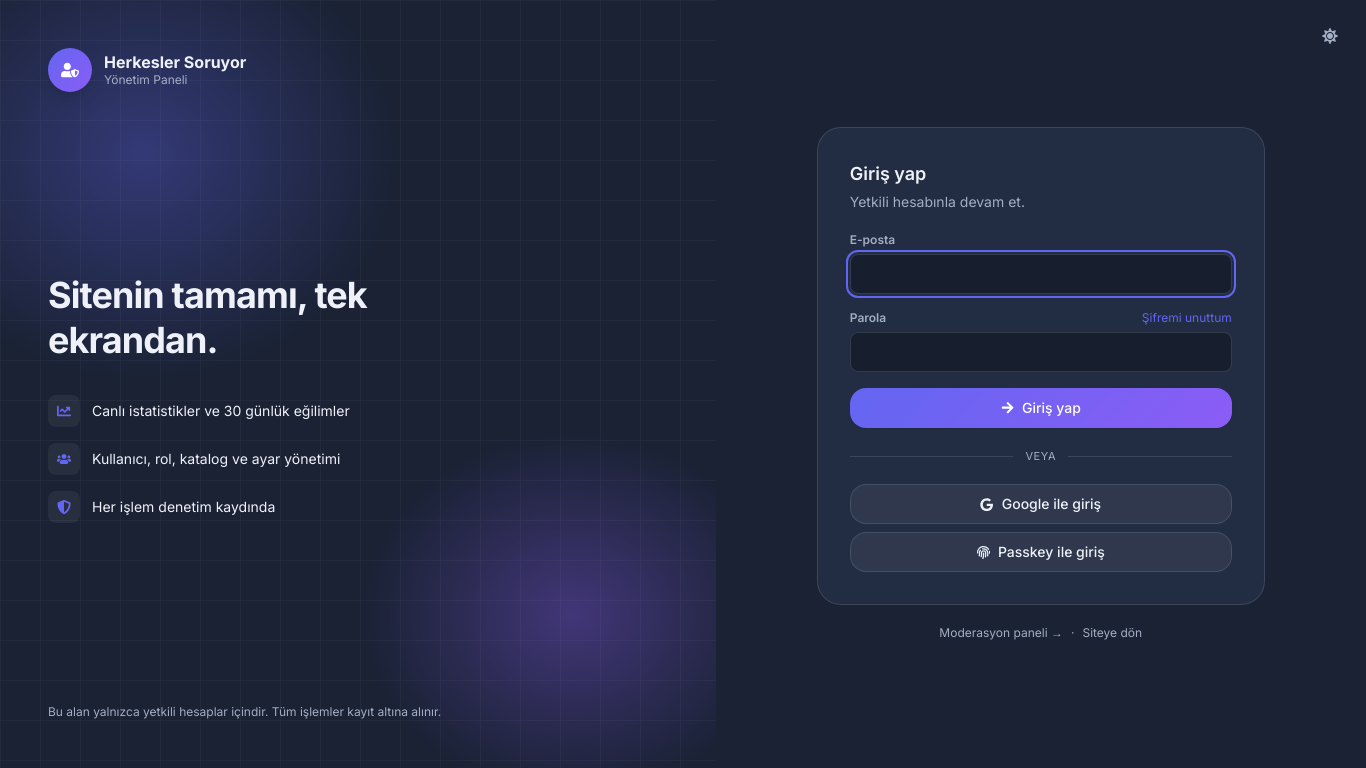
PanelLogin › şifremi unuttum akışı aynı kartta
Click the button "Şifremi unuttum": (1187, 318) [1142,310,1232,326]
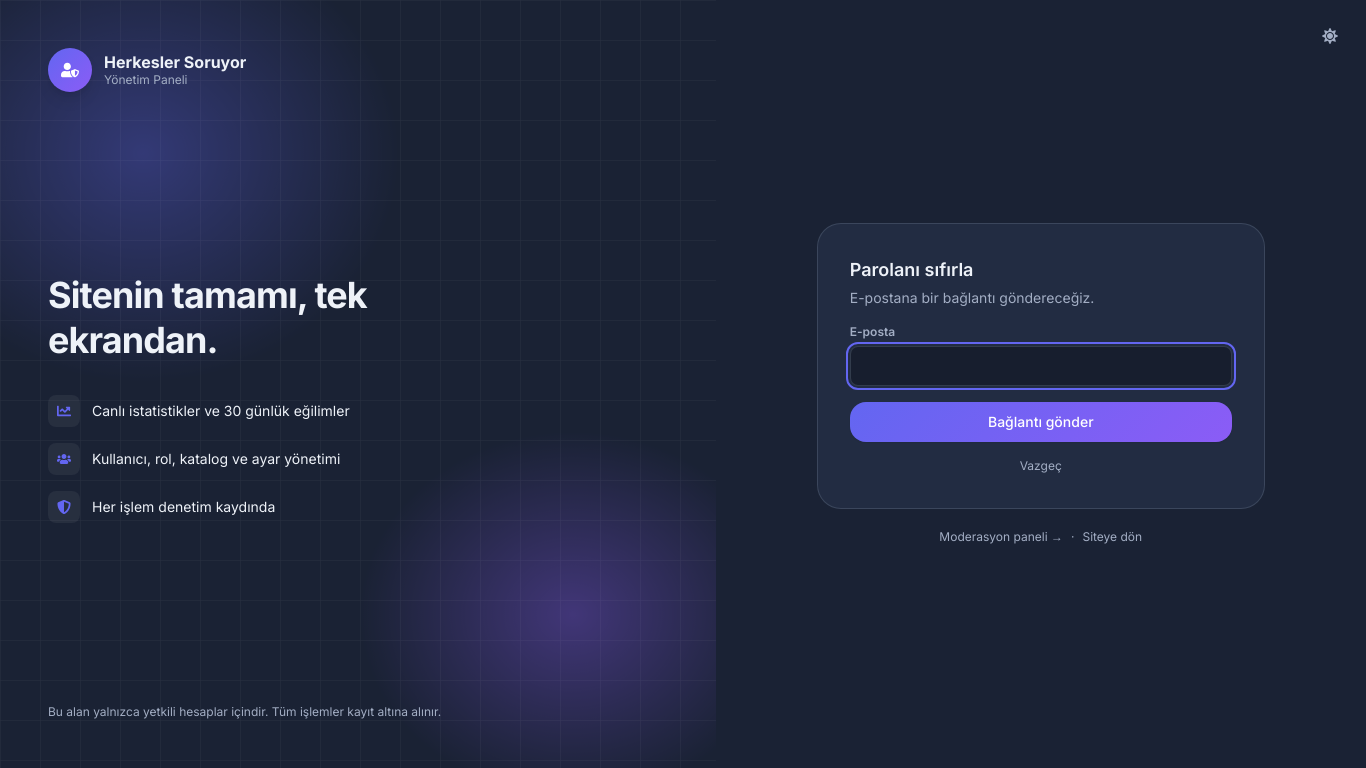
expect the heading "Parolanı sıfırla" is shown: met, box [850,259,974,280]
In the field labelled "E-posta": (1041, 366) [850,346,1232,386], type "a@b.c"
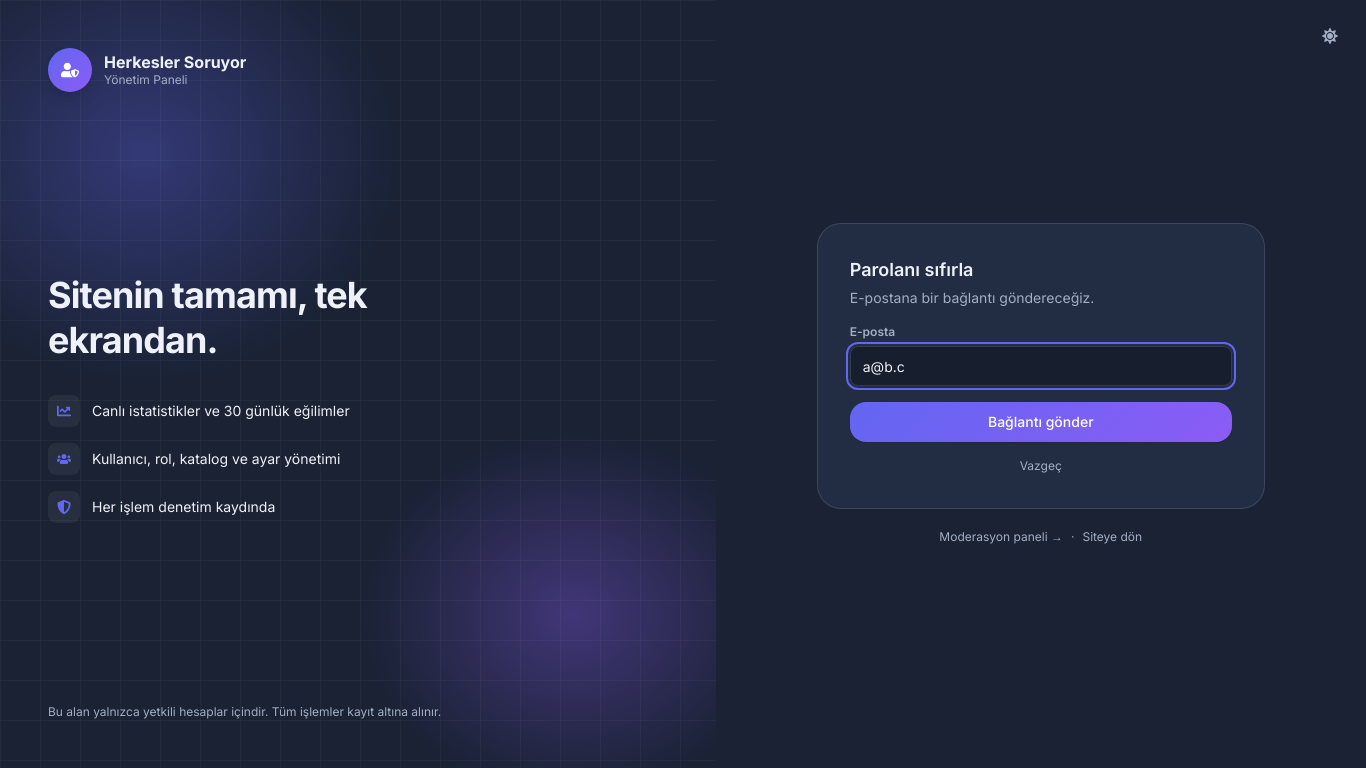
Click the button "Bağlantı gönder": (1041, 422) [850,402,1232,442]
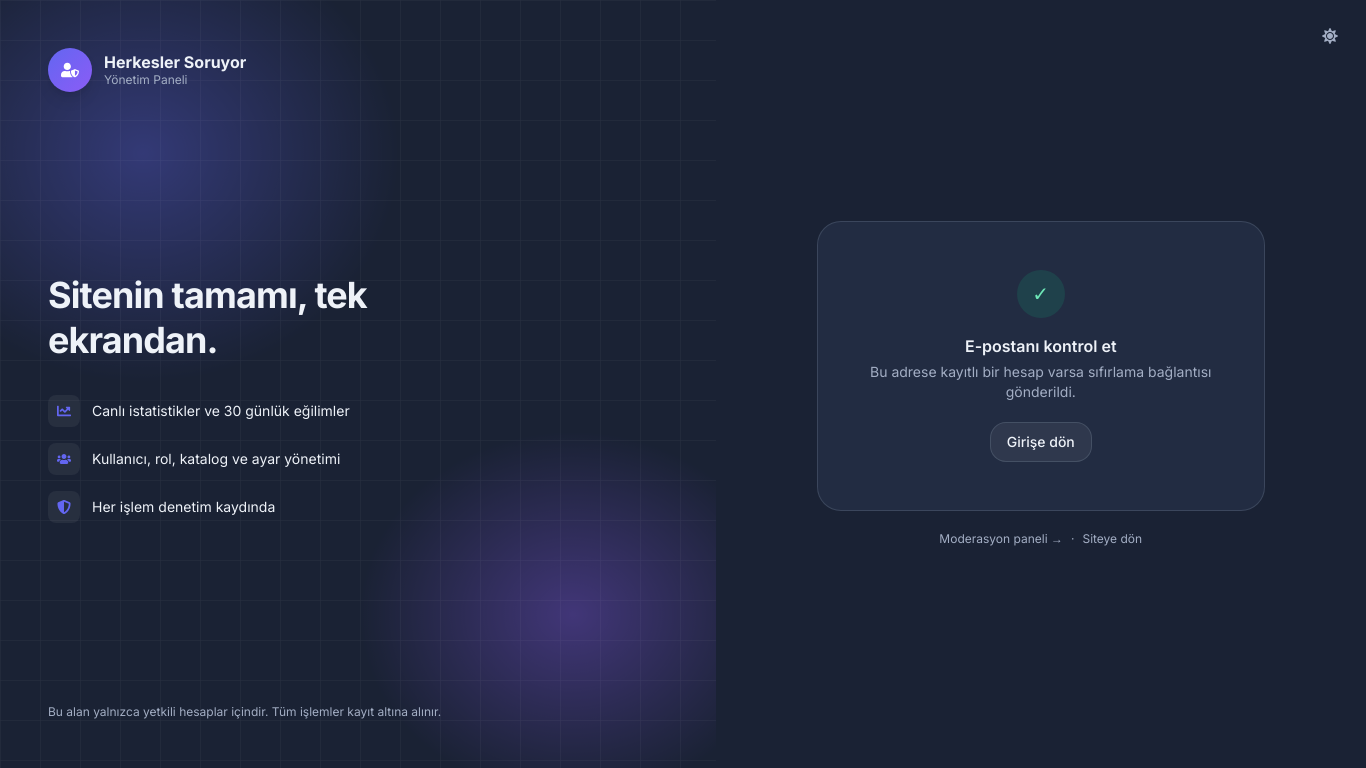
expect the heading "E-postanı kontrol et" is shown: met, box [965,336,1117,356]
